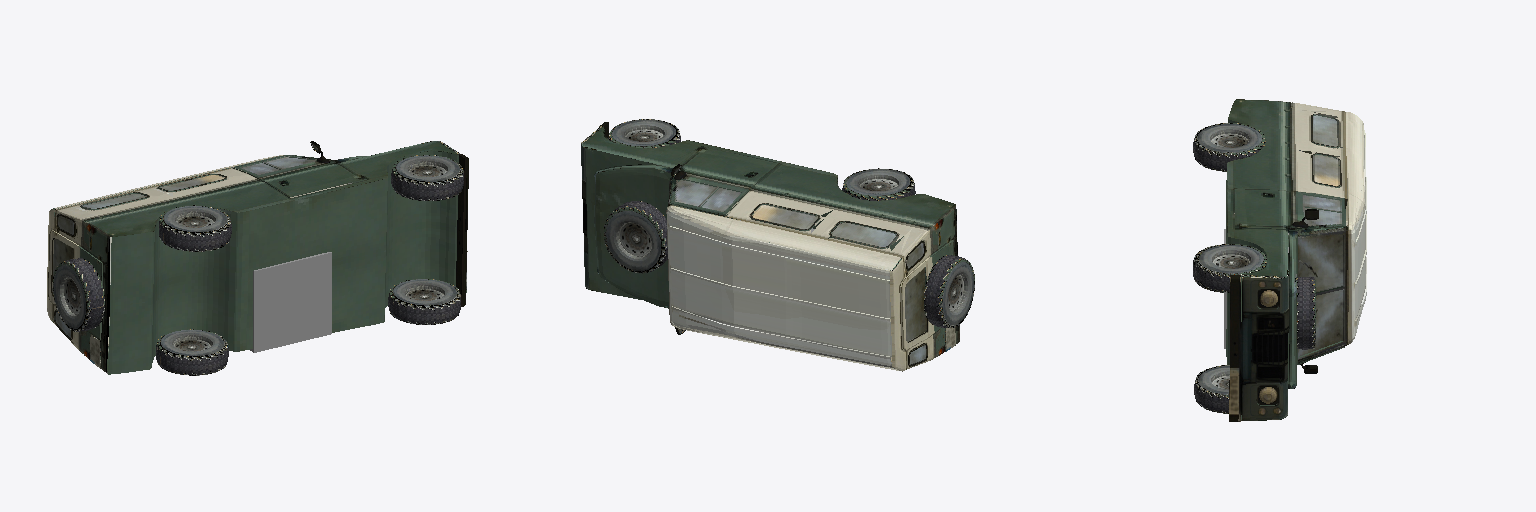
The picture shows the model from 3 angles: view 1: azimuth 30°, elevation 25°; view 2: azimuth 150°, elevation 25°; view 3: azimuth 270°, elevation 25°; orthographic projection.
Visible parts, largest first — view 1: Cylinder02, Cube; view 2: Cylinder02; view 3: Cylinder02.
Part boxes in pixels (bbox=[...]): Cylinder02: bbox=[47, 141, 468, 375]; Cube: bbox=[250, 252, 331, 352]; Cylinder02: bbox=[581, 119, 974, 371]; Cylinder02: bbox=[1193, 99, 1366, 421].
Size of the model in its own units: 9.7 by 4.07 by 3.88.
Materials: 2 (1 with a texture image).